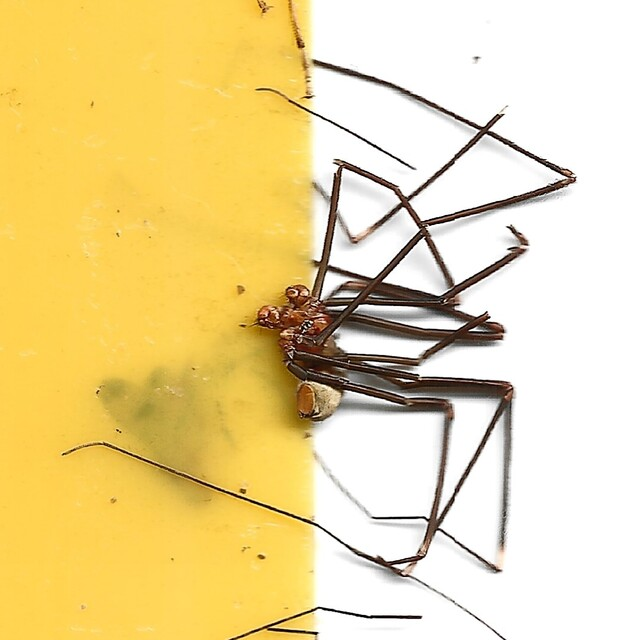Araneae: (60, 56, 580, 584)
